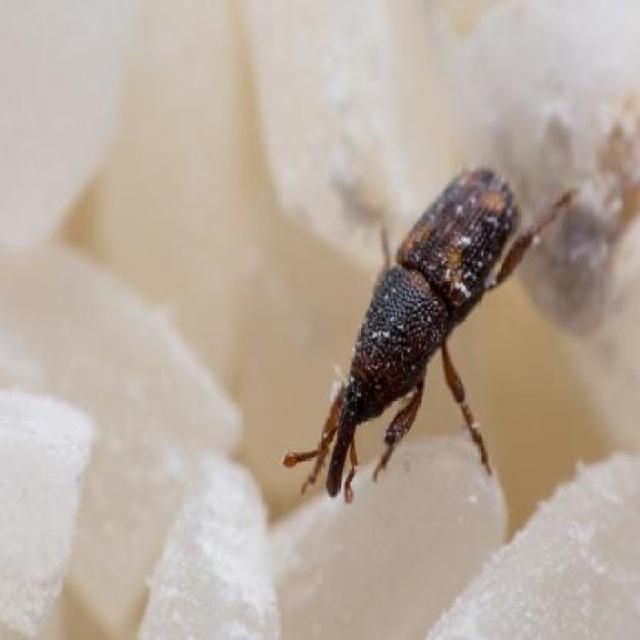rice-bug: (316, 165, 535, 500)
